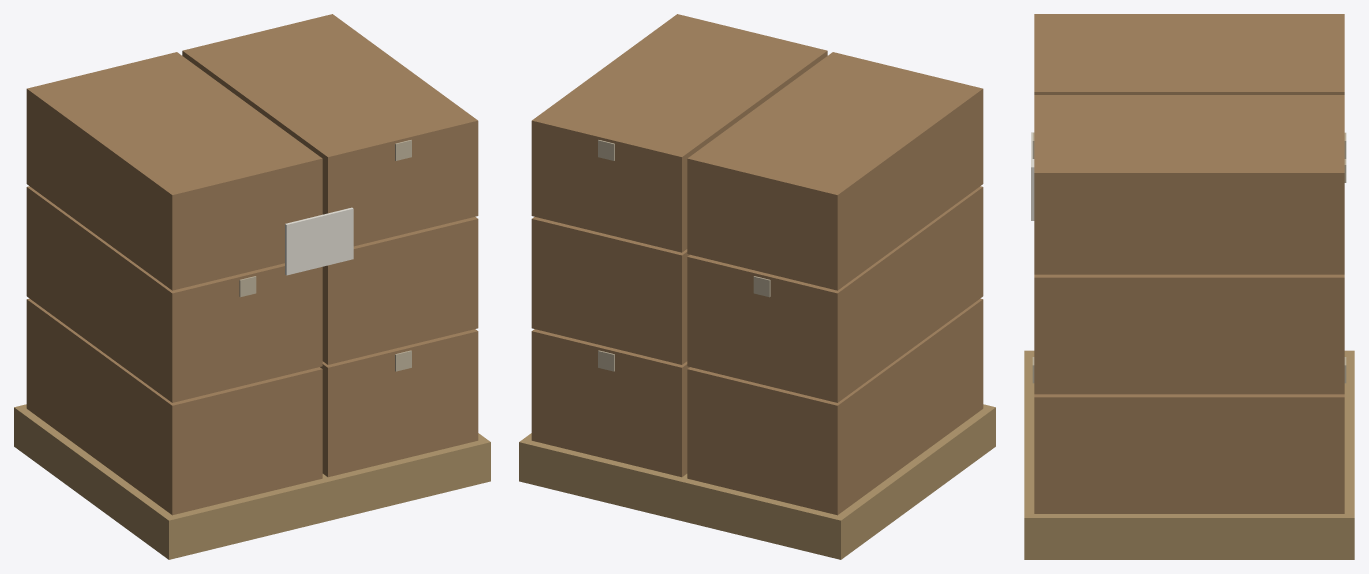
File: pallet_boxes.glb
3 views of the same model, side by side, from view 1: azimuth 30°, elevation 25°; view 2: azimuth 150°, elevation 25°; view 3: azimuth 270°, elevation 25° (orthographic). The views are drawn at different scales.
Parts seen in each view (by area): view 1: pallet_boxes; view 2: pallet_boxes; view 3: pallet_boxes.
Boxes of the visible parts, left/top/right/bottom form: pallet_boxes: left=14, top=14, right=490, bottom=559; pallet_boxes: left=519, top=14, right=995, bottom=559; pallet_boxes: left=1024, top=14, right=1354, bottom=559.
Bounding box in the file's own units: 1.2 × 1.28 × 1.
Materials: 1 (1 with a texture image).
